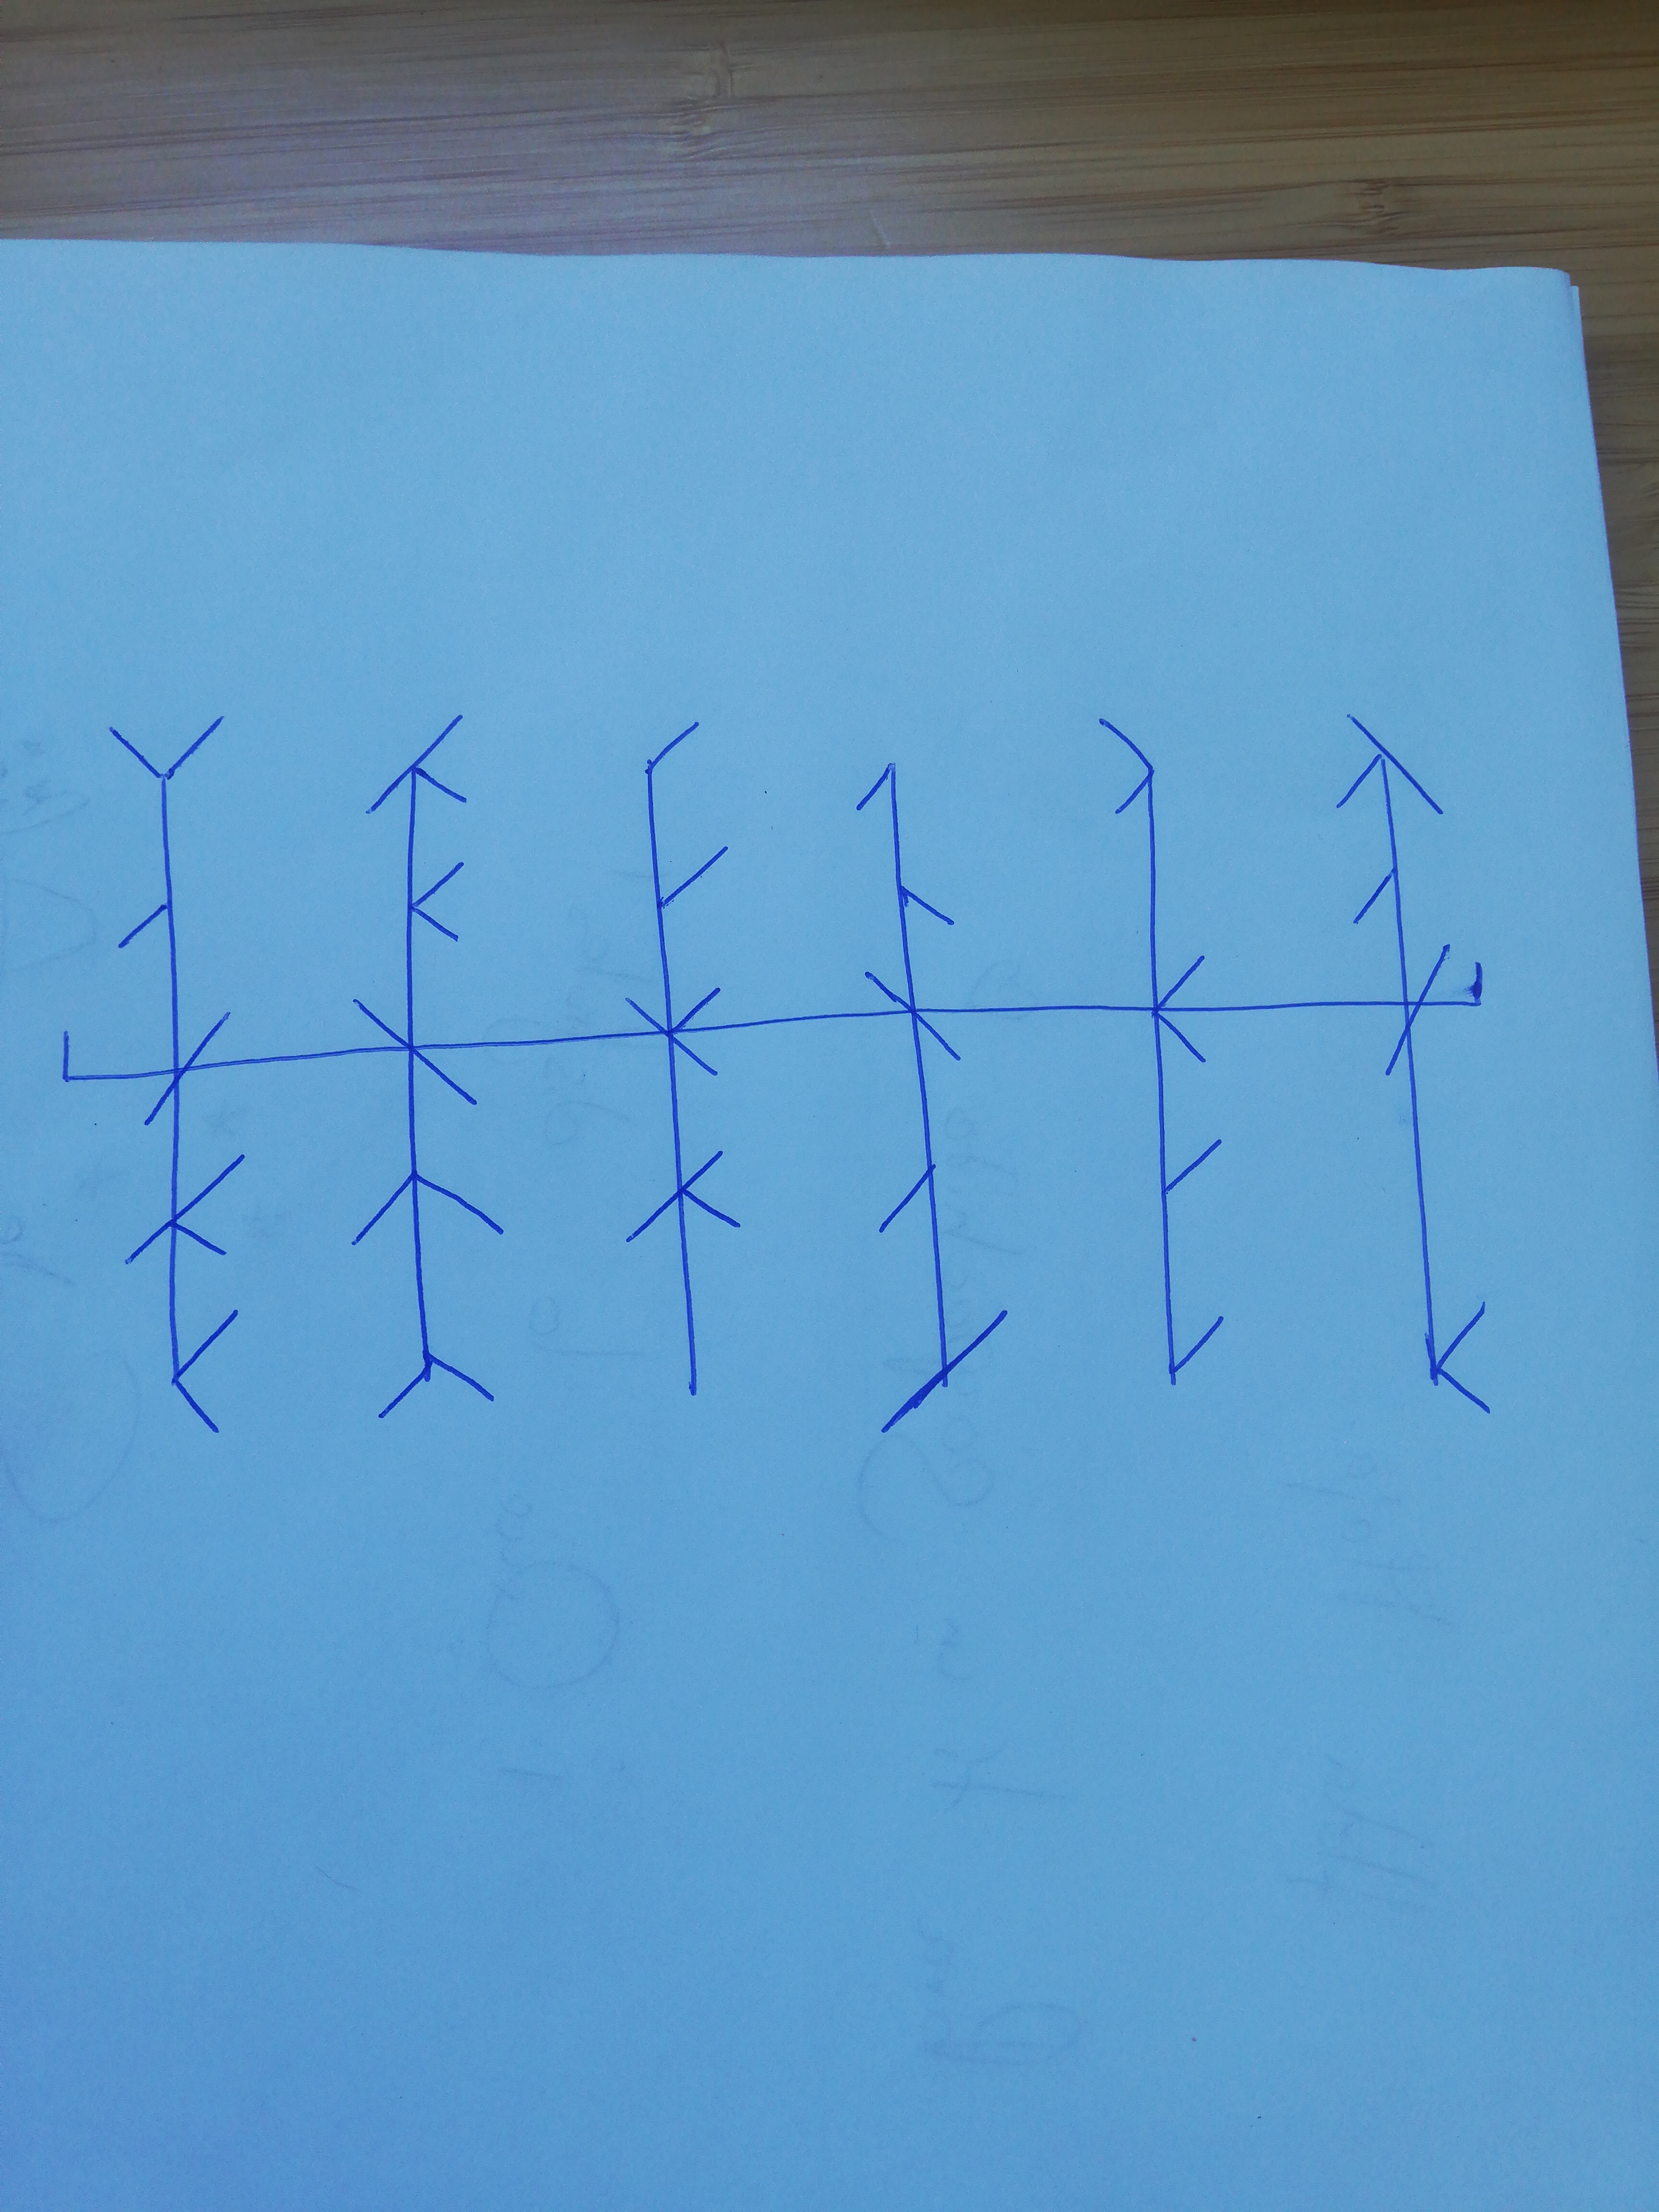Bar: (1335, 716, 1493, 1414), (352, 716, 507, 1420), (852, 761, 1009, 1433), (99, 716, 242, 1435), (1098, 719, 1222, 1385), (624, 719, 746, 1393)
Barcode: (63, 716, 1492, 1435)
End: (1448, 960, 1485, 1010)
Start: (61, 1029, 171, 1083)
